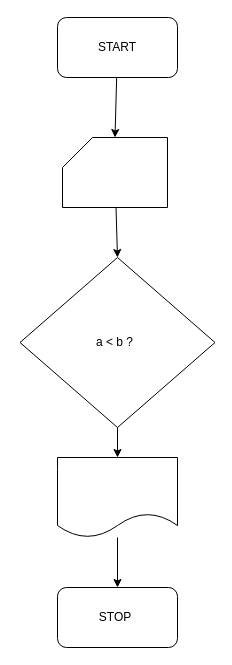
The diagram is 232 pixels wide and 665 high, and some of its shapes have lost their labels. Each missing label, with the centre of its shape:
"_ is bigger": (x=117, y=497)
a = number b = number: (x=115, y=172)
